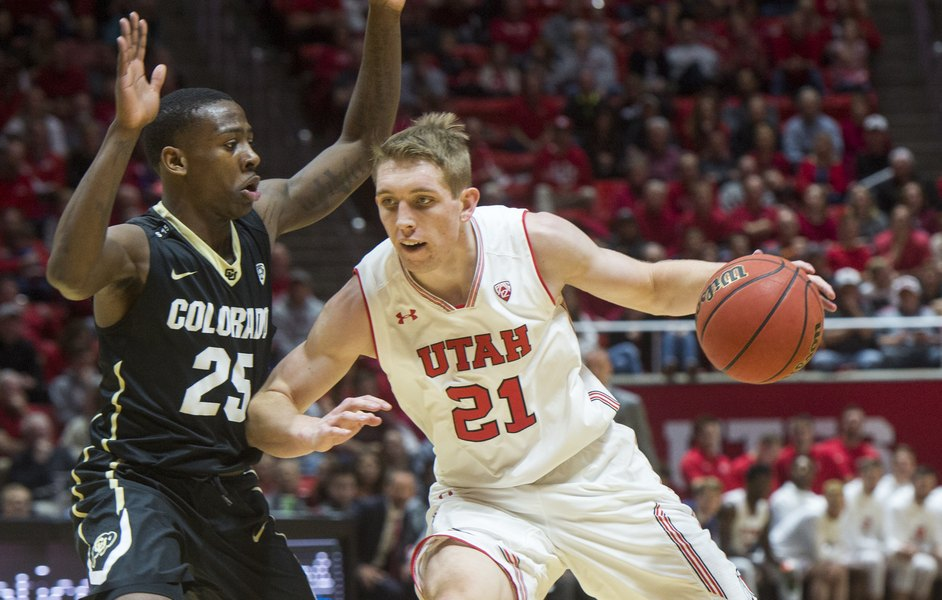ball: (684, 245, 838, 395)
breakthrough: (277, 102, 850, 600)
defense: (45, 6, 408, 600)
